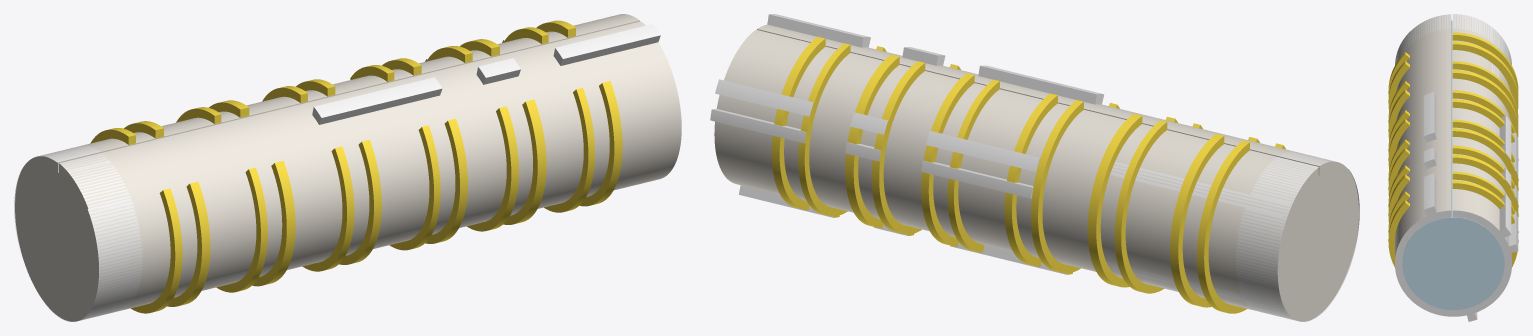
Rendered from irosa_rolled.gltf.
3 renders of one model, left to right at view 1: azimuth 30°, elevation 25°; view 2: azimuth 150°, elevation 25°; view 3: azimuth 270°, elevation 25°, orthographic. The views are drawn at different scales.
Parts seen in each view (by area): view 1: Part 1, Surface 2, Surface 1; view 2: Part 1, Surface 1, Surface 2; view 3: Part 1, Surface 2, Surface 1.
Boxes of the visible parts, x1,y1,x2,y2 form: Part 1: (15, 14, 681, 321); Surface 2: (43, 146, 273, 319); Surface 1: (14, 145, 273, 321); Part 1: (710, 14, 1358, 321); Surface 1: (1106, 157, 1359, 321); Surface 2: (1106, 151, 1334, 319); Part 1: (1388, 14, 1518, 321); Surface 2: (1396, 14, 1511, 77); Surface 1: (1395, 14, 1511, 76).
Size of the model in its own units: 0.1242 by 0.0347 by 0.0347.
